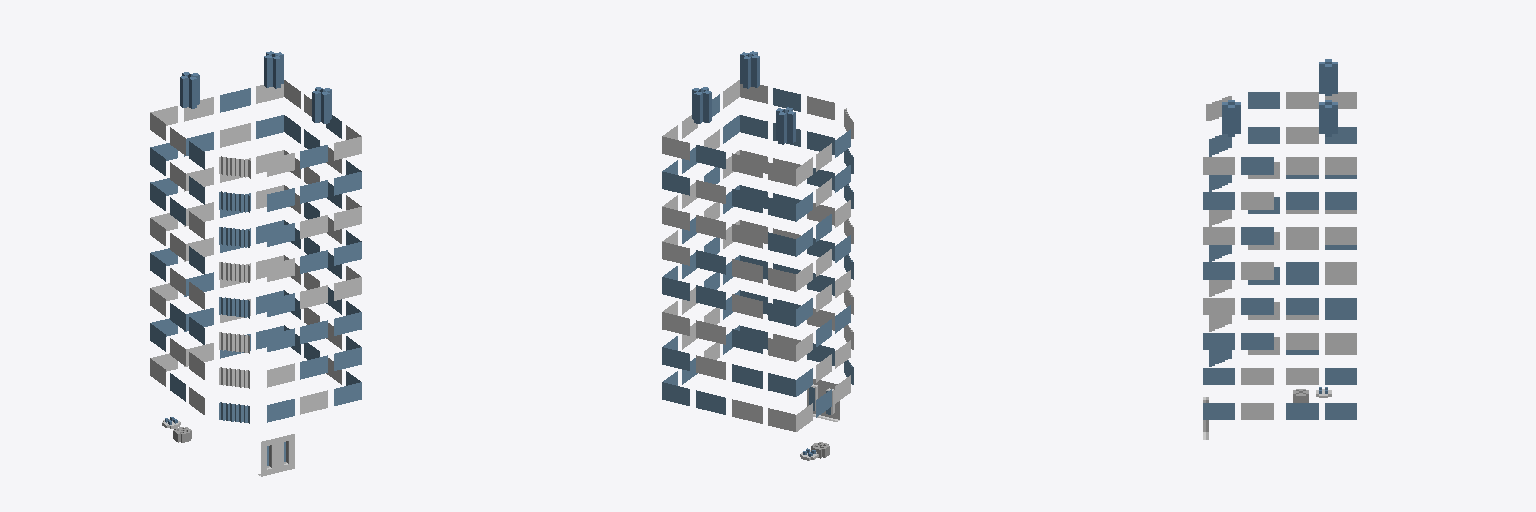
3 renders of one model, left to right at view 1: azimuth 30°, elevation 25°; view 2: azimuth 150°, elevation 25°; view 3: azimuth 270°, elevation 25°, orthographic.
Parts seen in each view (by area): view 1: cake2; view 2: cake2; view 3: cake2.
Boxes of the visible parts, x1=… form: cake2: x1=150, y1=51, x2=361, y2=476; cake2: x1=662, y1=51, x2=853, y2=460; cake2: x1=1203, y1=59, x2=1356, y2=439.
Size of the model in its own units: 52 by 126 by 52.
Materials: 1 (1 with a texture image).